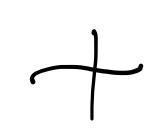plus: (30, 29, 143, 121)
